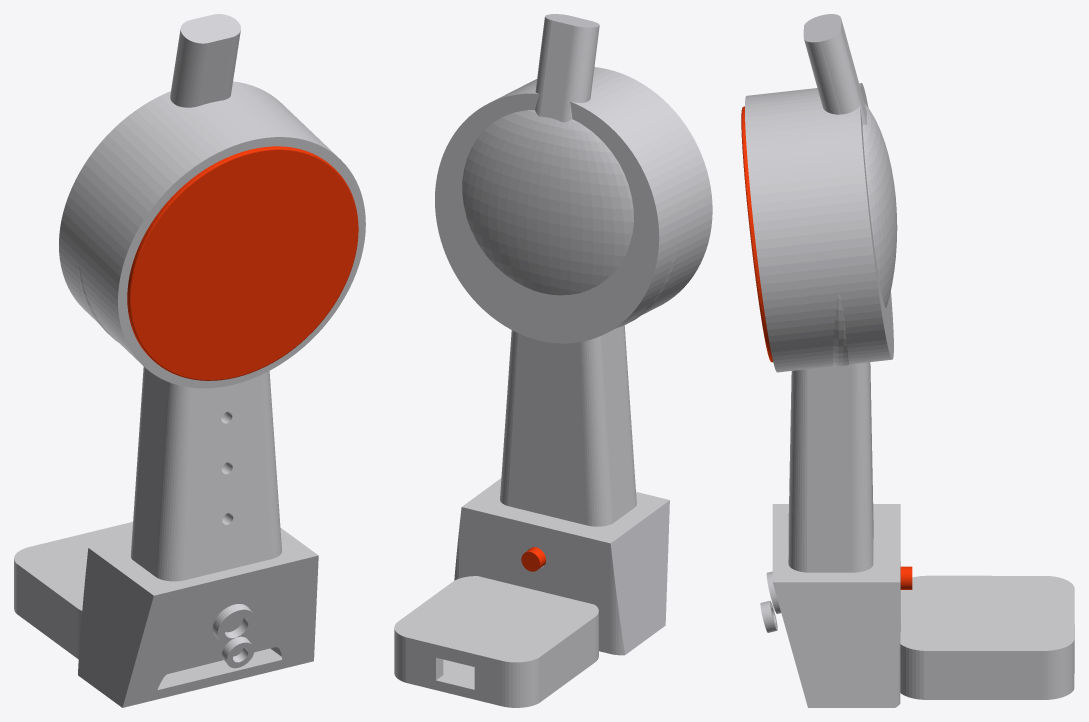
The model's file is StudySense_V6_Pro_Complete_Assembly.obj.
3 renders of one model, left to right at view 1: azimuth 30°, elevation 25°; view 2: azimuth 150°, elevation 25°; view 3: azimuth 270°, elevation 25°, orthographic. The views are drawn at different scales.
Visible parts, largest first — view 1: 02_Neck_and_Head_Pod, 04_Accent_Ring_Orange, 01_Base_Pedestal; view 2: 02_Neck_and_Head_Pod, 01_Base_Pedestal; view 3: 02_Neck_and_Head_Pod, 01_Base_Pedestal, 04_Accent_Ring_Orange.
Boxes of the visible parts, x1=… form: 02_Neck_and_Head_Pod: x1=59, y1=14, x2=365, y2=581; 04_Accent_Ring_Orange: x1=127, y1=146, x2=358, y2=380; 01_Base_Pedestal: x1=14, y1=522, x2=318, y2=707; 02_Neck_and_Head_Pod: x1=435, y1=14, x2=712, y2=526; 01_Base_Pedestal: x1=394, y1=478, x2=669, y2=707; 02_Neck_and_Head_Pod: x1=745, y1=14, x2=897, y2=572; 01_Base_Pedestal: x1=760, y1=504, x2=1074, y2=707; 04_Accent_Ring_Orange: x1=741, y1=106, x2=772, y2=362.
Size of the model in its own units: 72 by 182 by 86.2.
